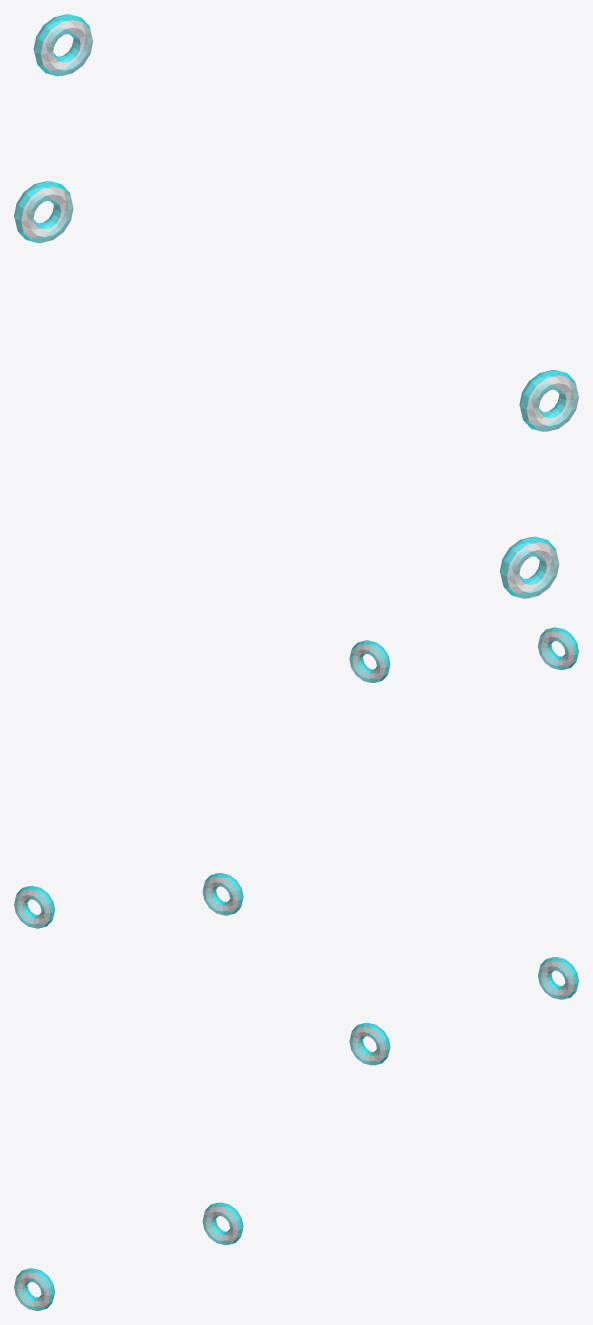
Rendered from Speed Lvl12.fbx.
3 renders of one model, top to bottom at view 1: azimuth 30°, elevation 25°; view 2: azimuth 150°, elevation 25°; view 3: azimuth 330°, elevation 25°, orthographic. The views are drawn at different scales.
Parts seen in each view (by area): view 1: Speed.001, Speed.002, Speed.003, Speed.004; view 2: Speed.002, Speed.003, Speed.001, Speed.004; view 3: Speed.002, Speed.003, Speed.001, Speed.004.
Boxes of the visible parts, x1,y1,x2,y2 form: Speed.001: [500, 536, 559, 598]; Speed.002: [519, 370, 578, 431]; Speed.003: [14, 181, 73, 242]; Speed.004: [33, 14, 92, 76]; Speed.002: [349, 640, 390, 682]; Speed.003: [202, 873, 243, 915]; Speed.001: [538, 627, 578, 669]; Speed.004: [14, 886, 54, 928]; Speed.002: [202, 1202, 243, 1244]; Speed.003: [349, 1023, 390, 1065]; Speed.001: [14, 1268, 54, 1310]; Speed.004: [538, 957, 578, 999].
Size of the model in its own units: 557 by 253 by 2948.
